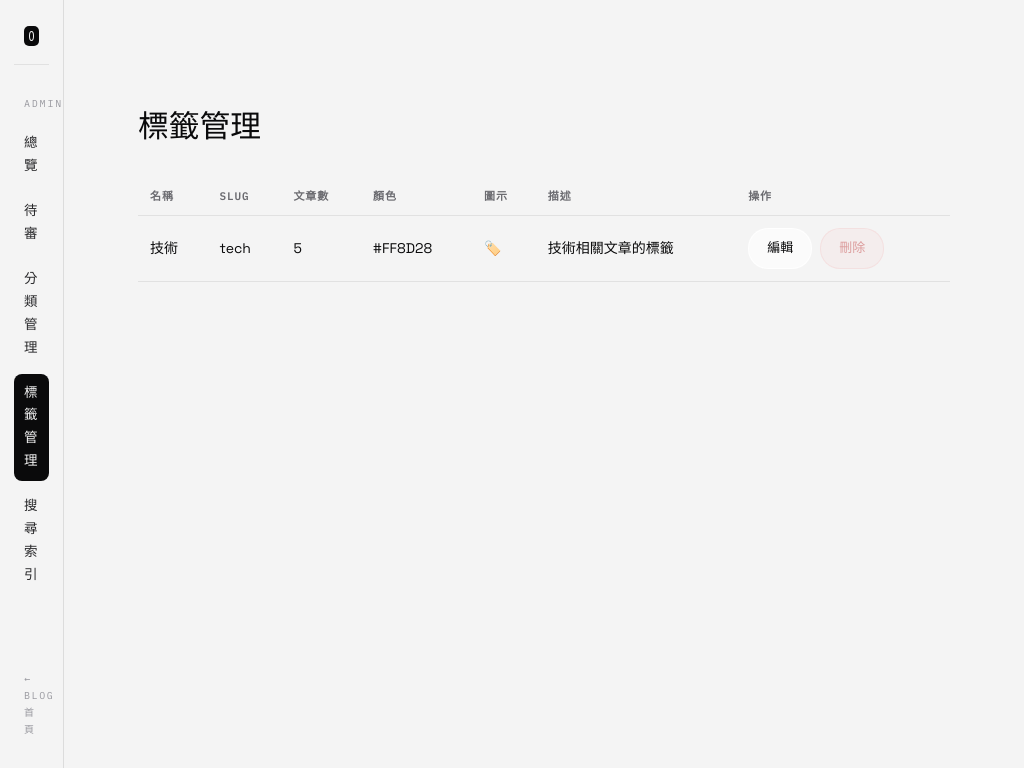
Test: AdminTagsView › 編輯標籤 › 編輯成功後關閉表單、重新拉列表、顯示 toast success
Click the button with test id "admin-tags-edit-tag-uuid-1". click: point(780, 249)
box: [748,228,812,269]
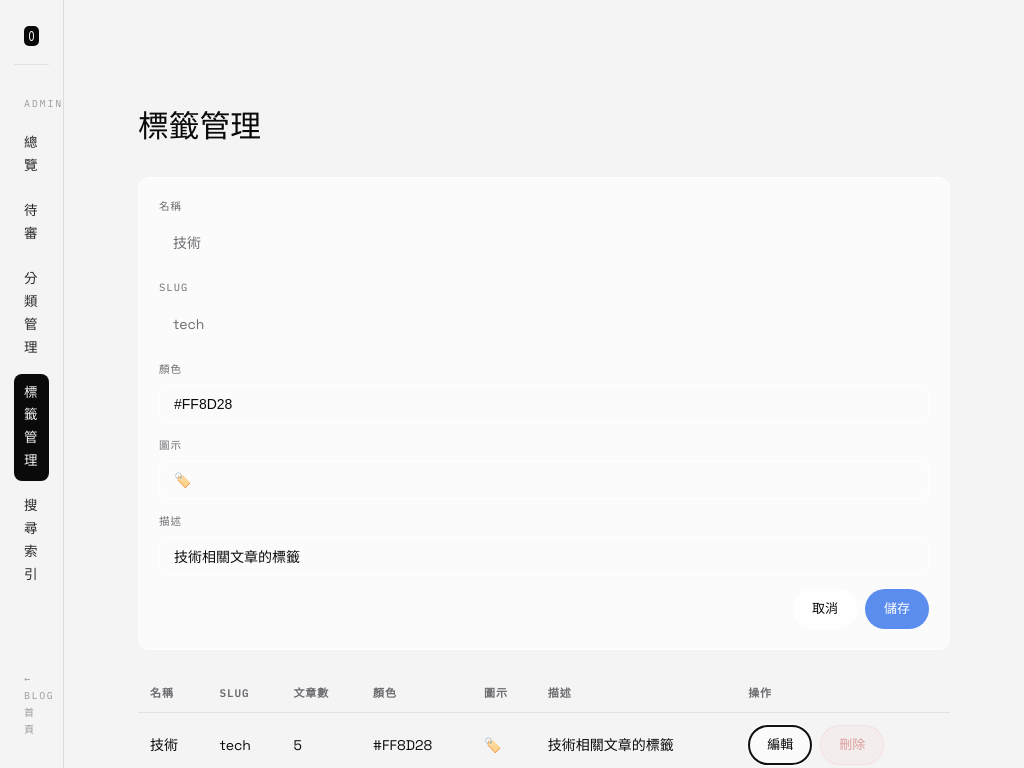
Click the button with test id "admin-tags-form-submit". click: point(897, 609)
box: [865,589,929,629]
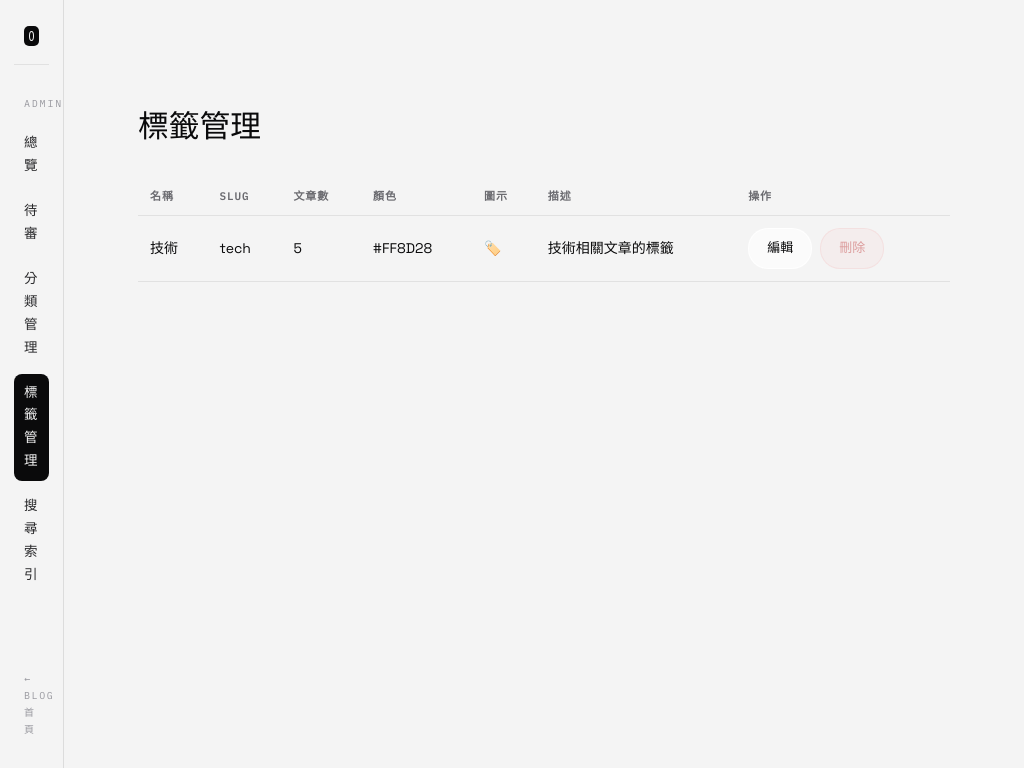
Expected: the element with test id "admin-tags-form" is gone
